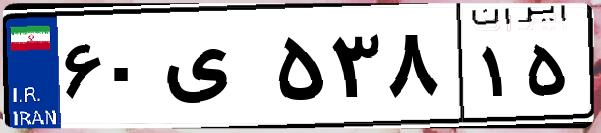0: (110, 28, 158, 98)
1: (475, 38, 525, 113)
3: (330, 28, 385, 110)
5: (270, 28, 330, 110), (525, 38, 570, 115)
6: (57, 26, 110, 100)
8: (385, 28, 445, 110)
ی: (158, 20, 270, 120)
